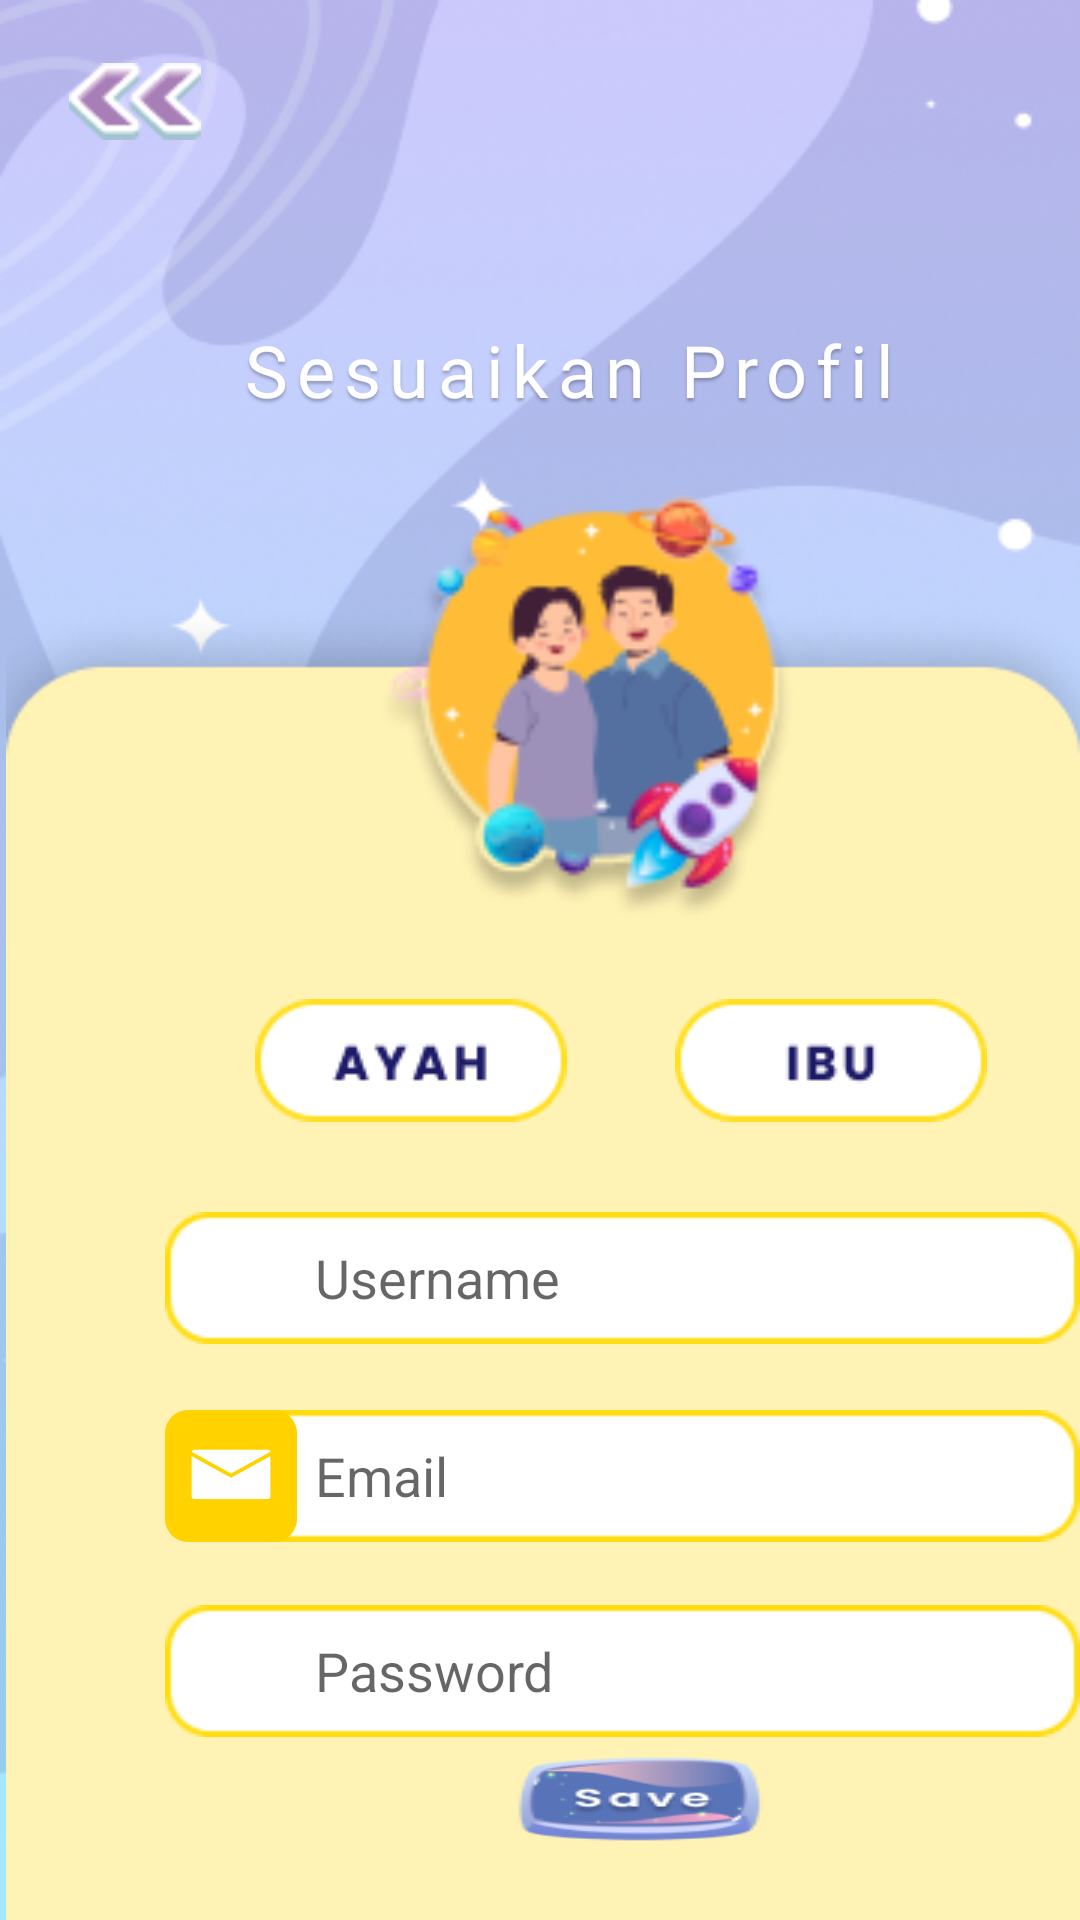

Screen size 1080w x 1920h. Icon name, then its center in pixels as [x,y]:
arrow: [135,101]
